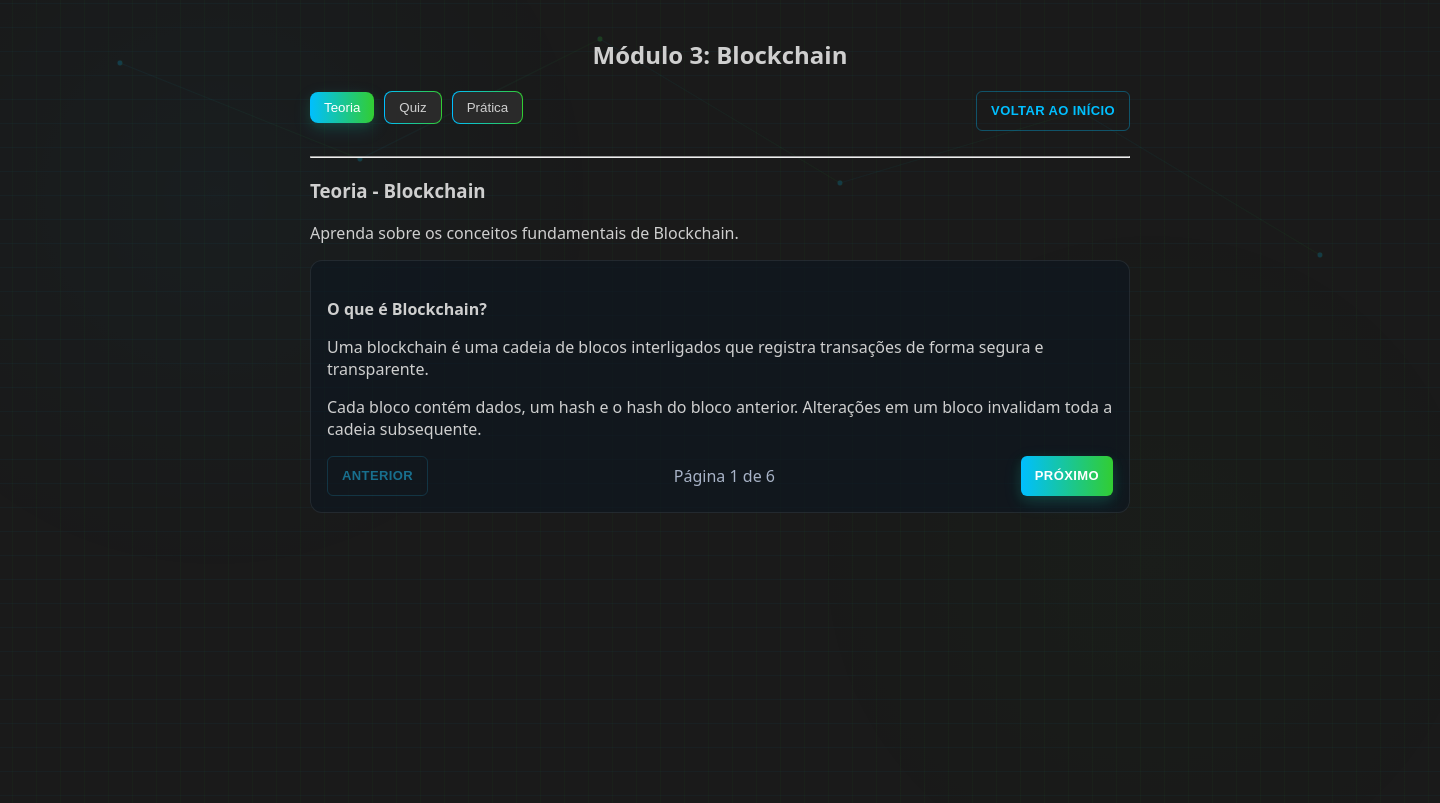
Test: BlockchainModule › attempts to re-validate the chain when blocks are re-mined
Step 1. Click the button "Prática" → x=487, y=107, box x1=452 y1=91 x2=523 y2=124
(page scrolled)
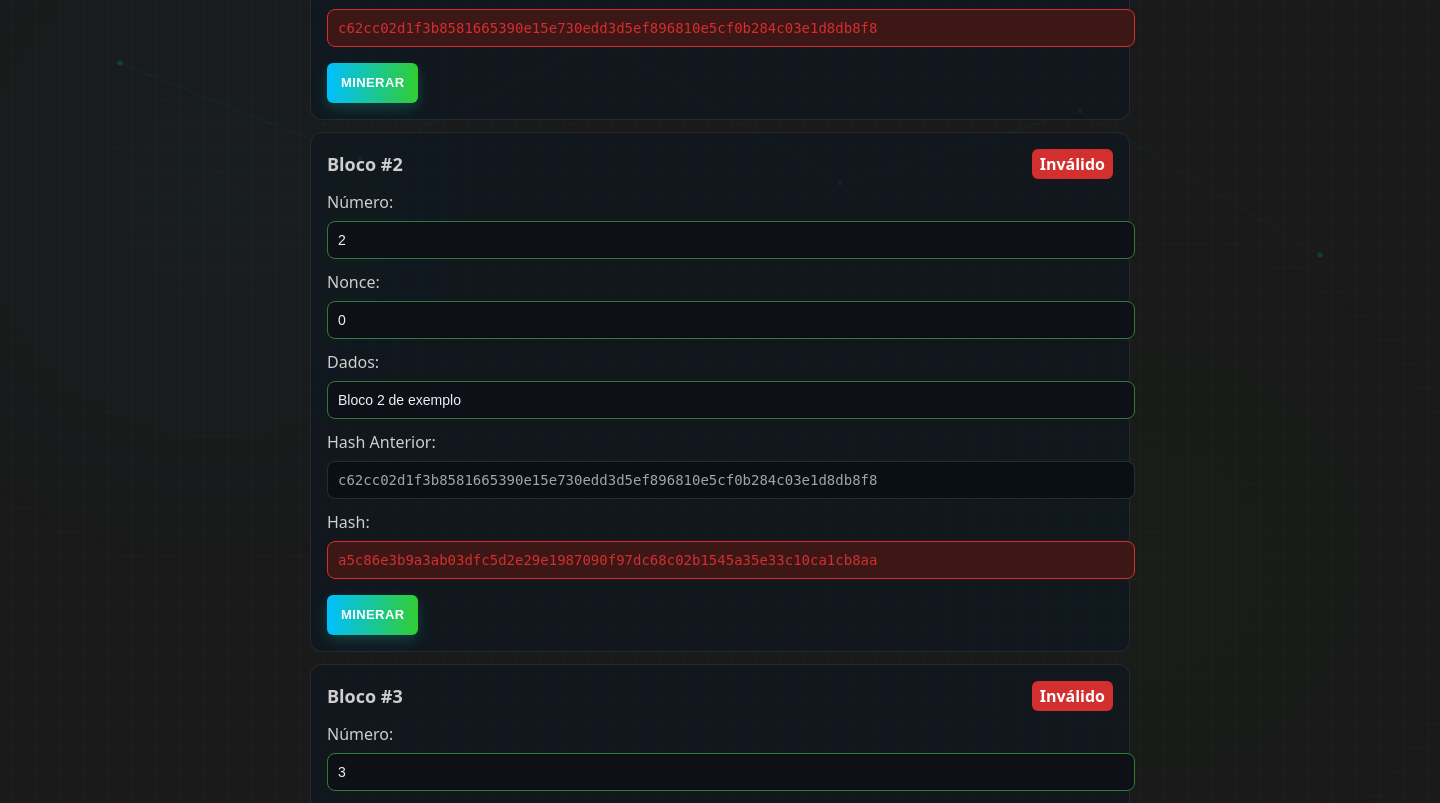
Step 2. Replace the text in the field labelled "Dados:" with "uma nova data" → x=731, y=400, box x1=327 y1=380 x2=1135 y2=418
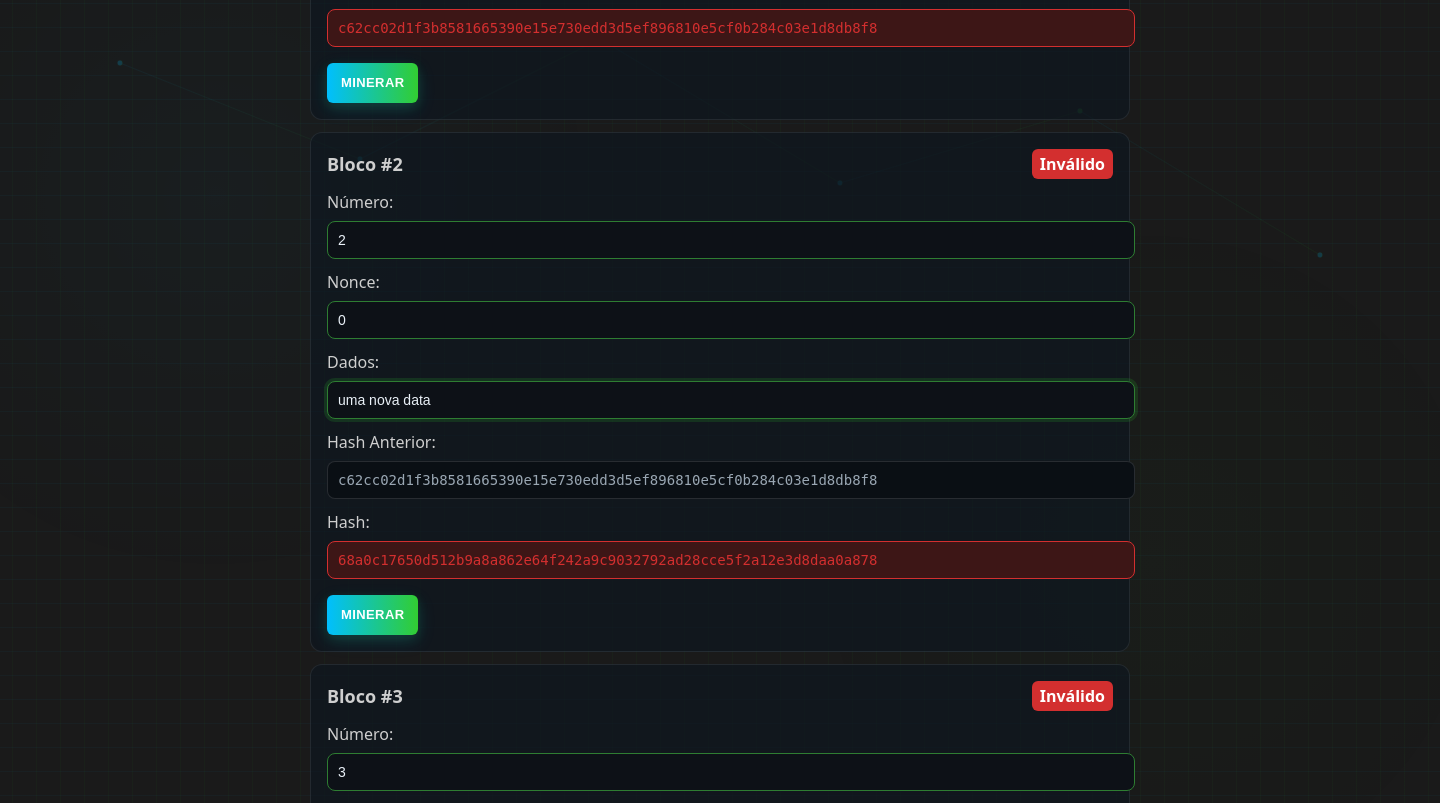
Expected: the 1st text "Inválido" is shown, x1=1032 y1=148 x2=1113 y2=178
Step 3. Click the 2nd button "Minerar" → x=373, y=614, box x1=327 y1=594 x2=418 y2=634
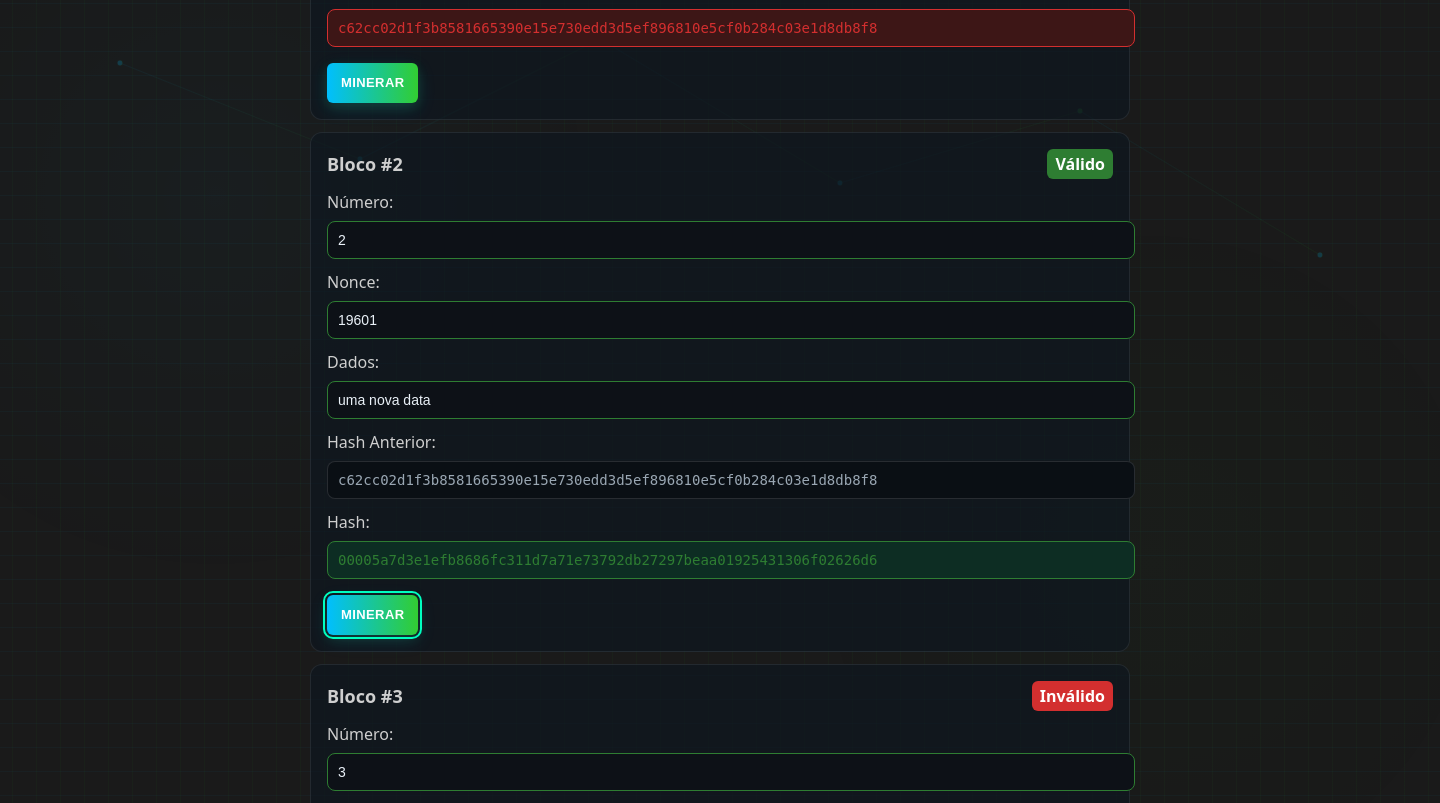
Expected: the number field labelled "Nonce:" does not hold "0", x1=327 y1=300 x2=1135 y2=338
